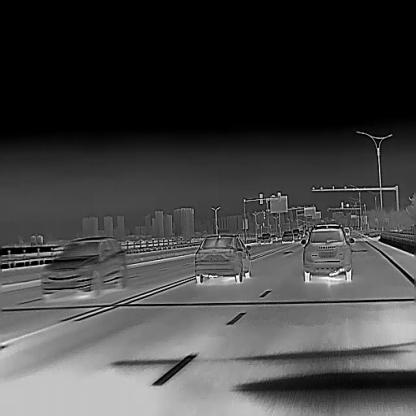car: (39, 234, 126, 293), (300, 223, 354, 282), (194, 232, 252, 282), (281, 230, 294, 244), (260, 232, 272, 244), (292, 230, 300, 240), (344, 226, 350, 237)
